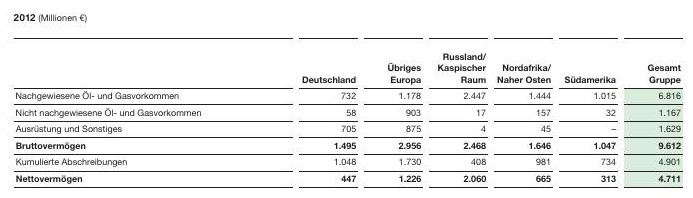table: (0, 0, 693, 198)
